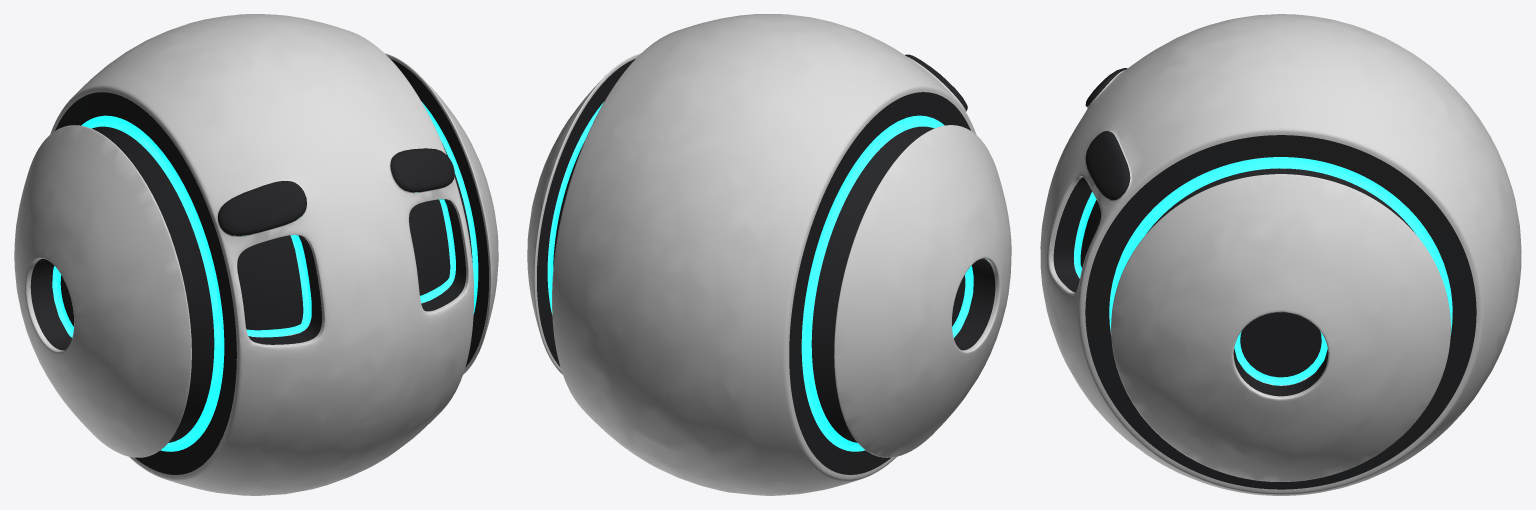
File: robobit.glb
The picture shows the model from 3 angles, left to right: view 1: azimuth 30°, elevation 25°; view 2: azimuth 150°, elevation 25°; view 3: azimuth 270°, elevation 25°; orthographic projection.
Visible parts, largest first — view 1: Sphere; view 2: Sphere; view 3: Sphere.
Boxes of the visible parts, x1,y1,x2,y2 form: Sphere: (14,14,498,495); Sphere: (527,14,1011,495); Sphere: (1040,14,1521,495).
Size of the model in its own units: 0.1955 by 0.1975 by 0.1973.
